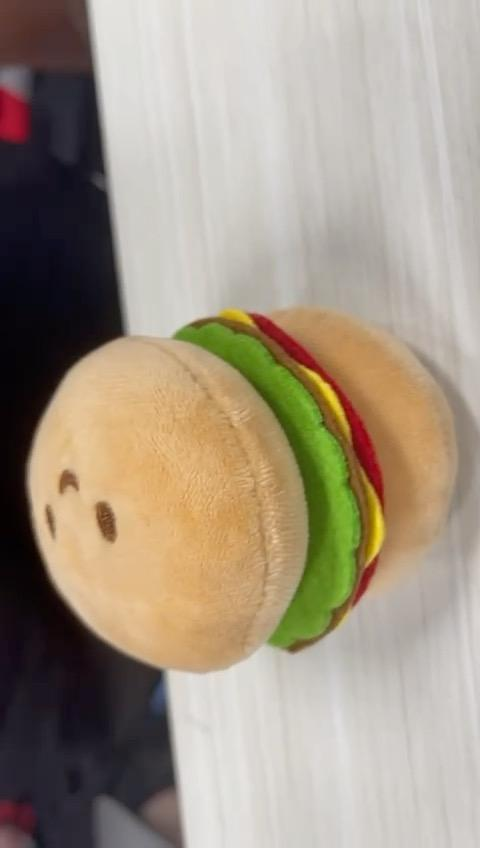hamburger: (29, 309, 459, 671)
